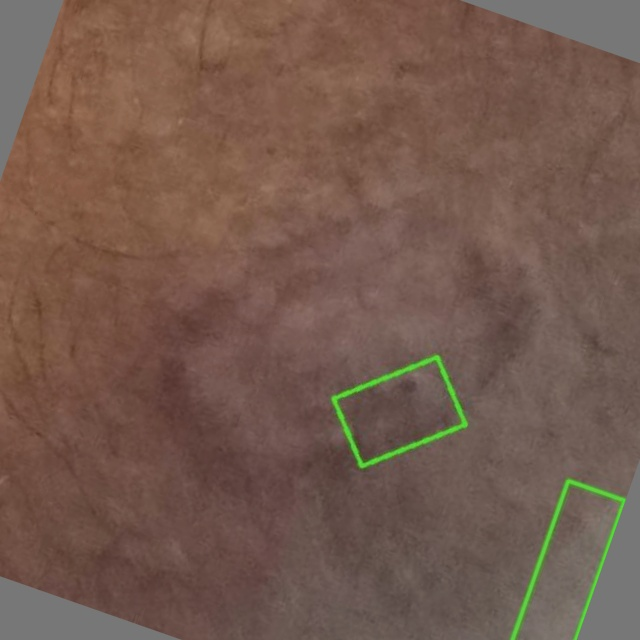Tinea Corporis: (334, 357, 465, 466)
